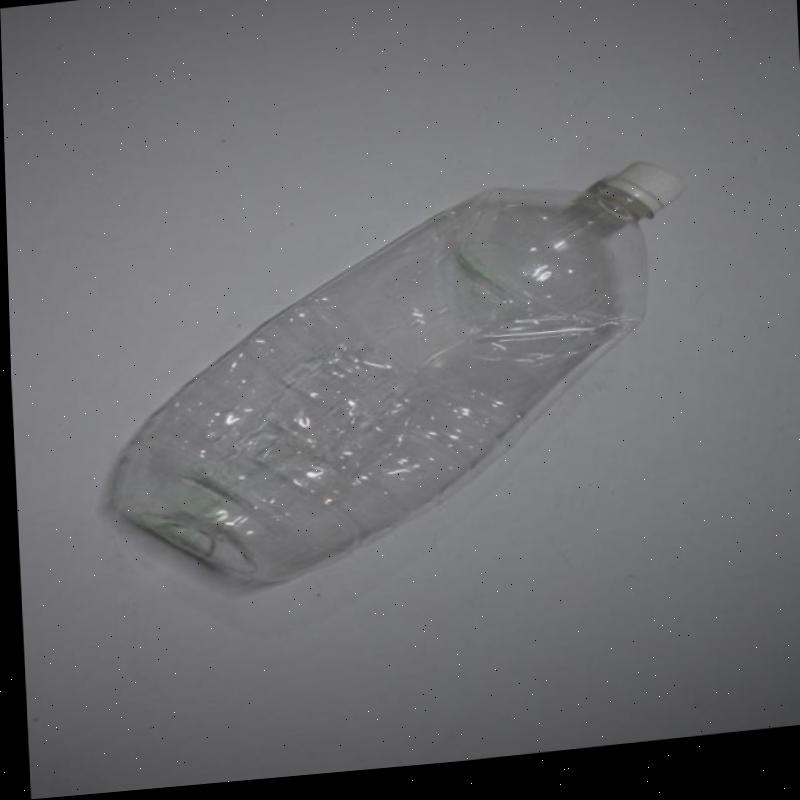botella: (96, 164, 702, 600)
